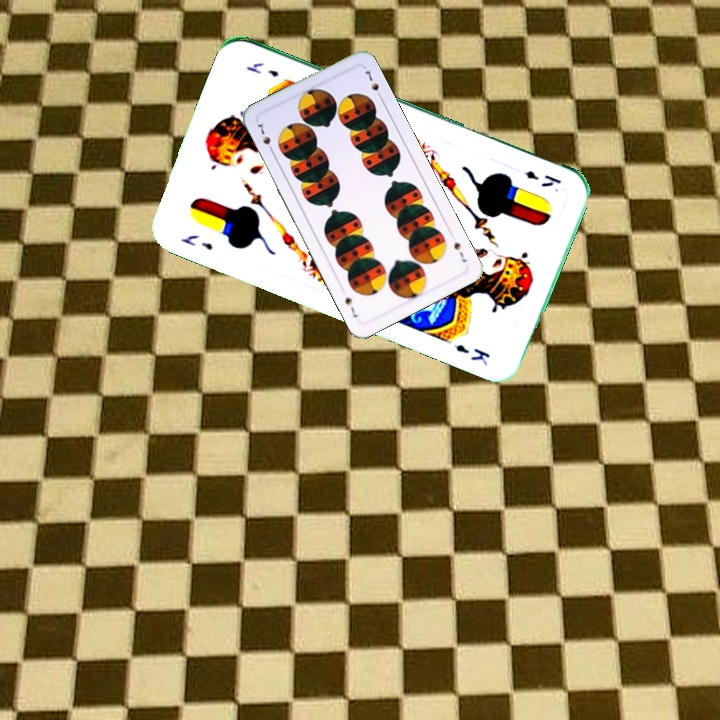EK: (521, 166, 564, 190), (177, 230, 215, 253)
S7: (253, 118, 276, 156), (450, 238, 469, 265)
